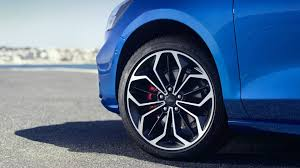wheel: (117, 34, 223, 161)
